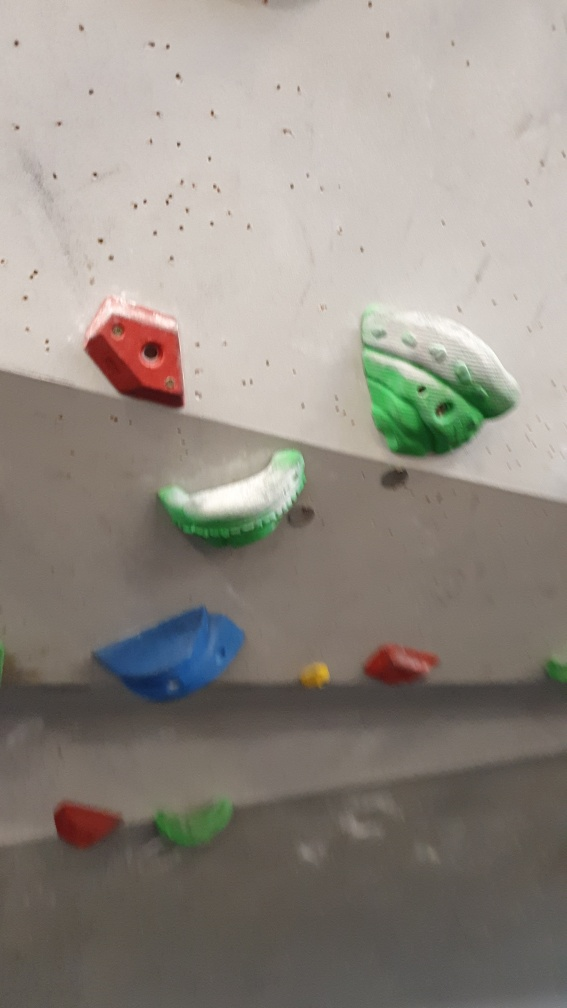Crimp: (75, 289, 195, 411)
Hand Start: (274, 497, 318, 540), (369, 462, 411, 497)
Jug: (350, 302, 521, 461), (154, 445, 311, 550)
Pinch: (88, 610, 252, 709)
